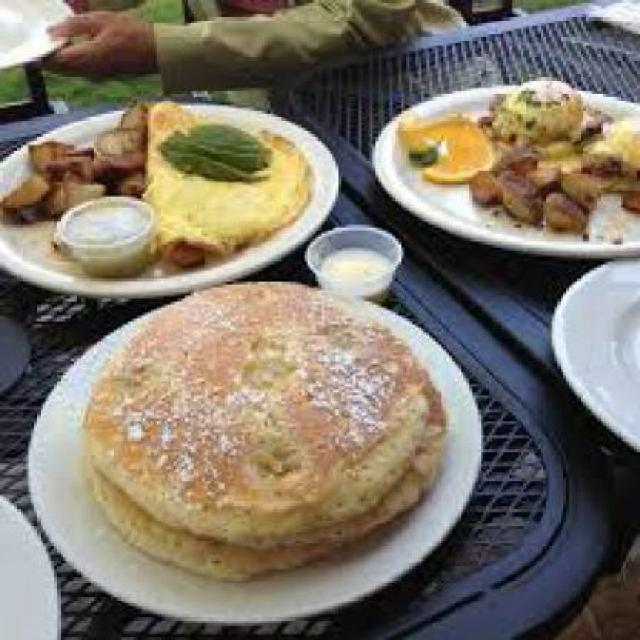omelette: (145, 97, 324, 265)
pancakes: (79, 276, 450, 592)
